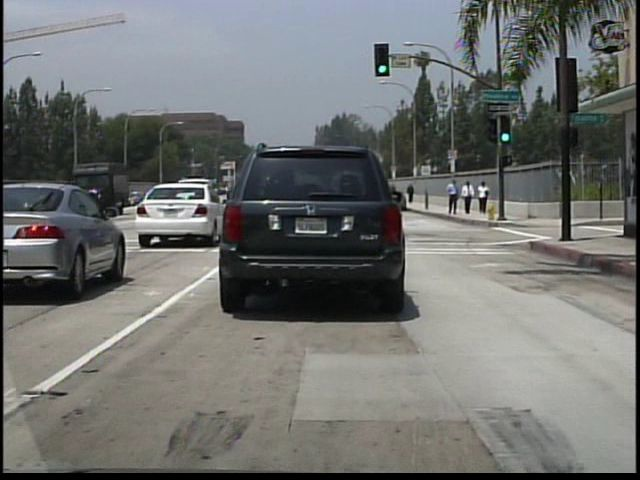person: (446, 178, 461, 218), (461, 180, 475, 215), (477, 181, 490, 216), (406, 183, 416, 205)
